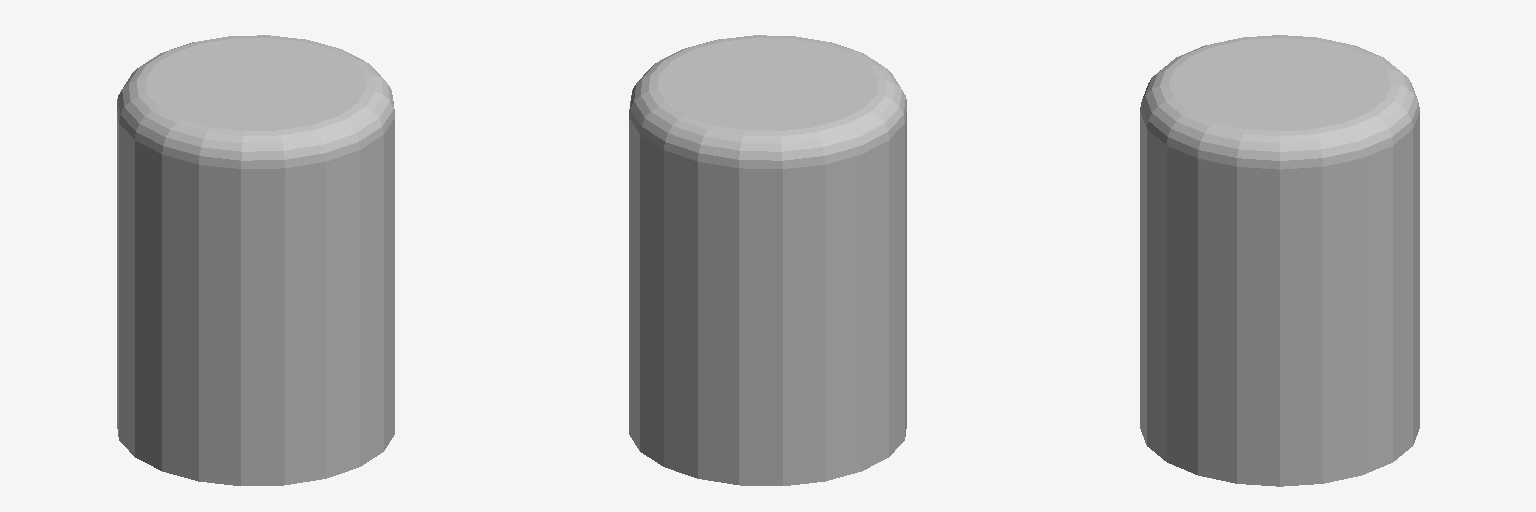
The model's file is whackMole_cylinder.obj.
The picture shows the model from 3 angles: view 1: azimuth 30°, elevation 25°; view 2: azimuth 150°, elevation 25°; view 3: azimuth 270°, elevation 25°; orthographic projection.
Parts seen in each view (by area): view 1: whackMole_cylinder; view 2: whackMole_cylinder; view 3: whackMole_cylinder.
Boxes of the visible parts, x1,y1,x2,y2 form: whackMole_cylinder: [117, 35, 394, 485]; whackMole_cylinder: [629, 35, 906, 485]; whackMole_cylinder: [1140, 35, 1419, 486].
Size of the model in its own units: 0.7359 by 0.9934 by 0.7359.